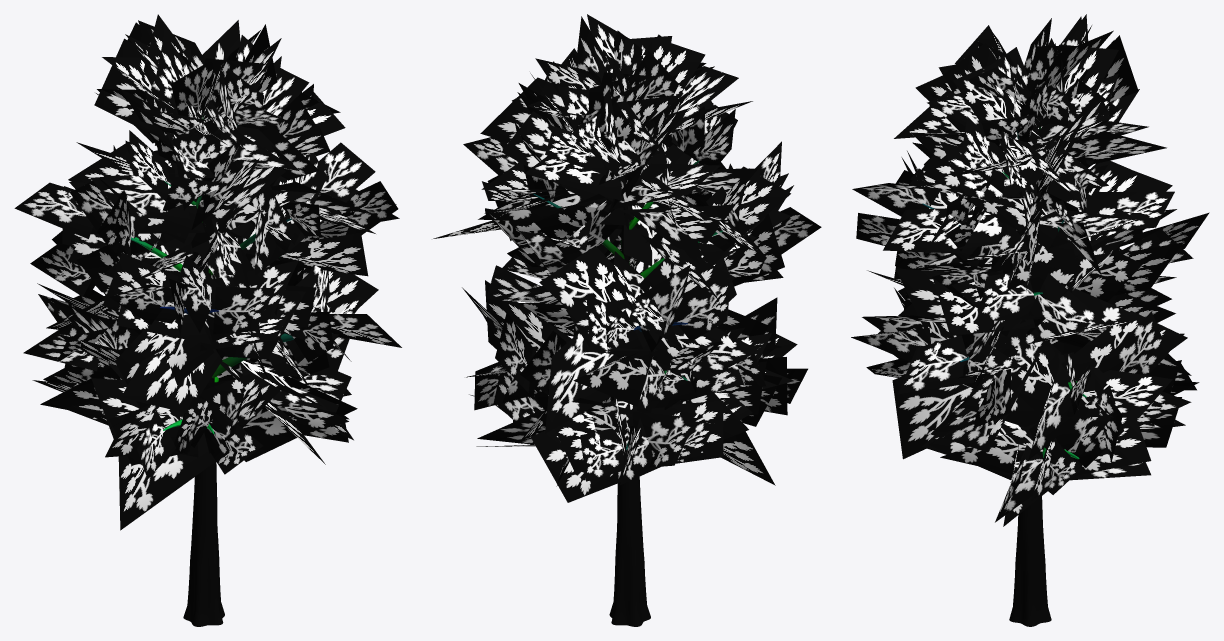
File: SM_DebugTree04.fbx
3 renders of one model, left to right at view 1: azimuth 30°, elevation 25°; view 2: azimuth 150°, elevation 25°; view 3: azimuth 270°, elevation 25°, orthographic.
Parts seen in each view (by area): view 1: Tree_1, Tree_0; view 2: Tree_1, Tree_0; view 3: Tree_1, Tree_0.
Boxes of the visible parts, box(x1,y1,x2,y2) form: Tree_1: box(14, 14, 401, 530); Tree_0: box(131, 116, 293, 626); Tree_1: box(433, 14, 821, 502); Tree_0: box(533, 160, 722, 626); Tree_1: box(851, 14, 1209, 526); Tree_0: box(922, 91, 1086, 626).
Bounding box in the file's own units: 236 × 400 × 222.
Materials: 1 (1 with a texture image).
